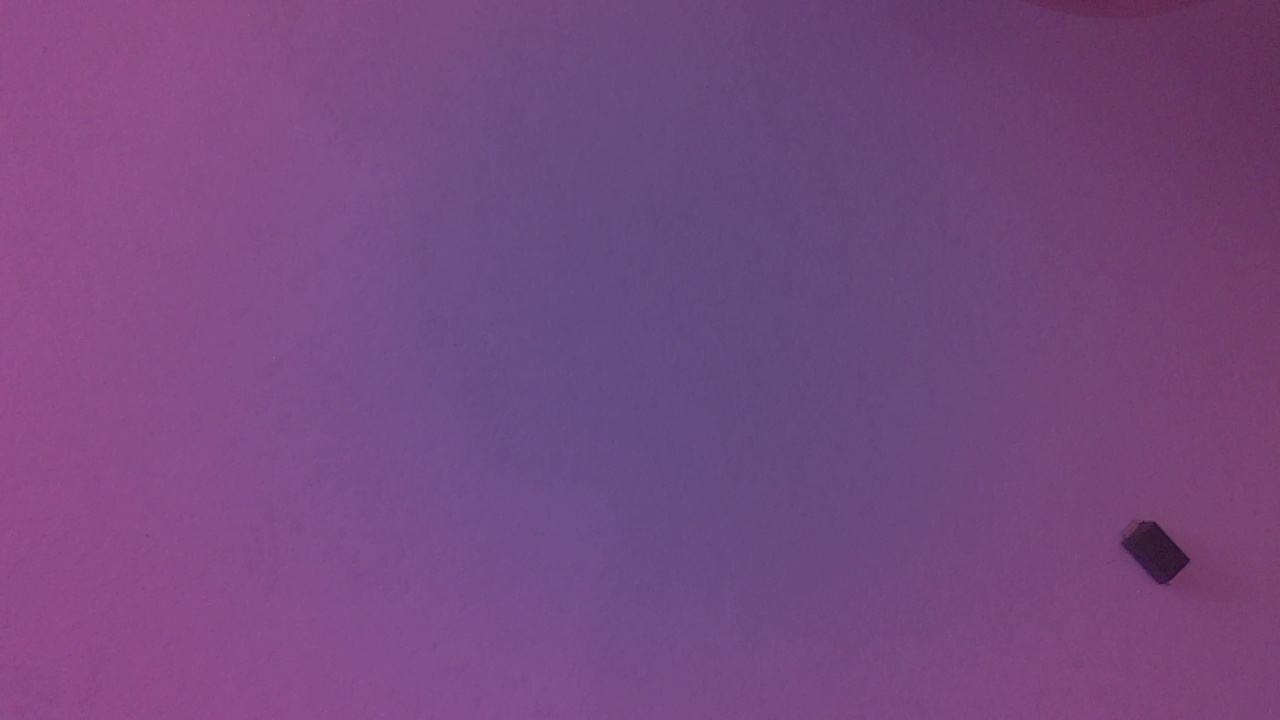Diode: (1123, 511, 1195, 595)
